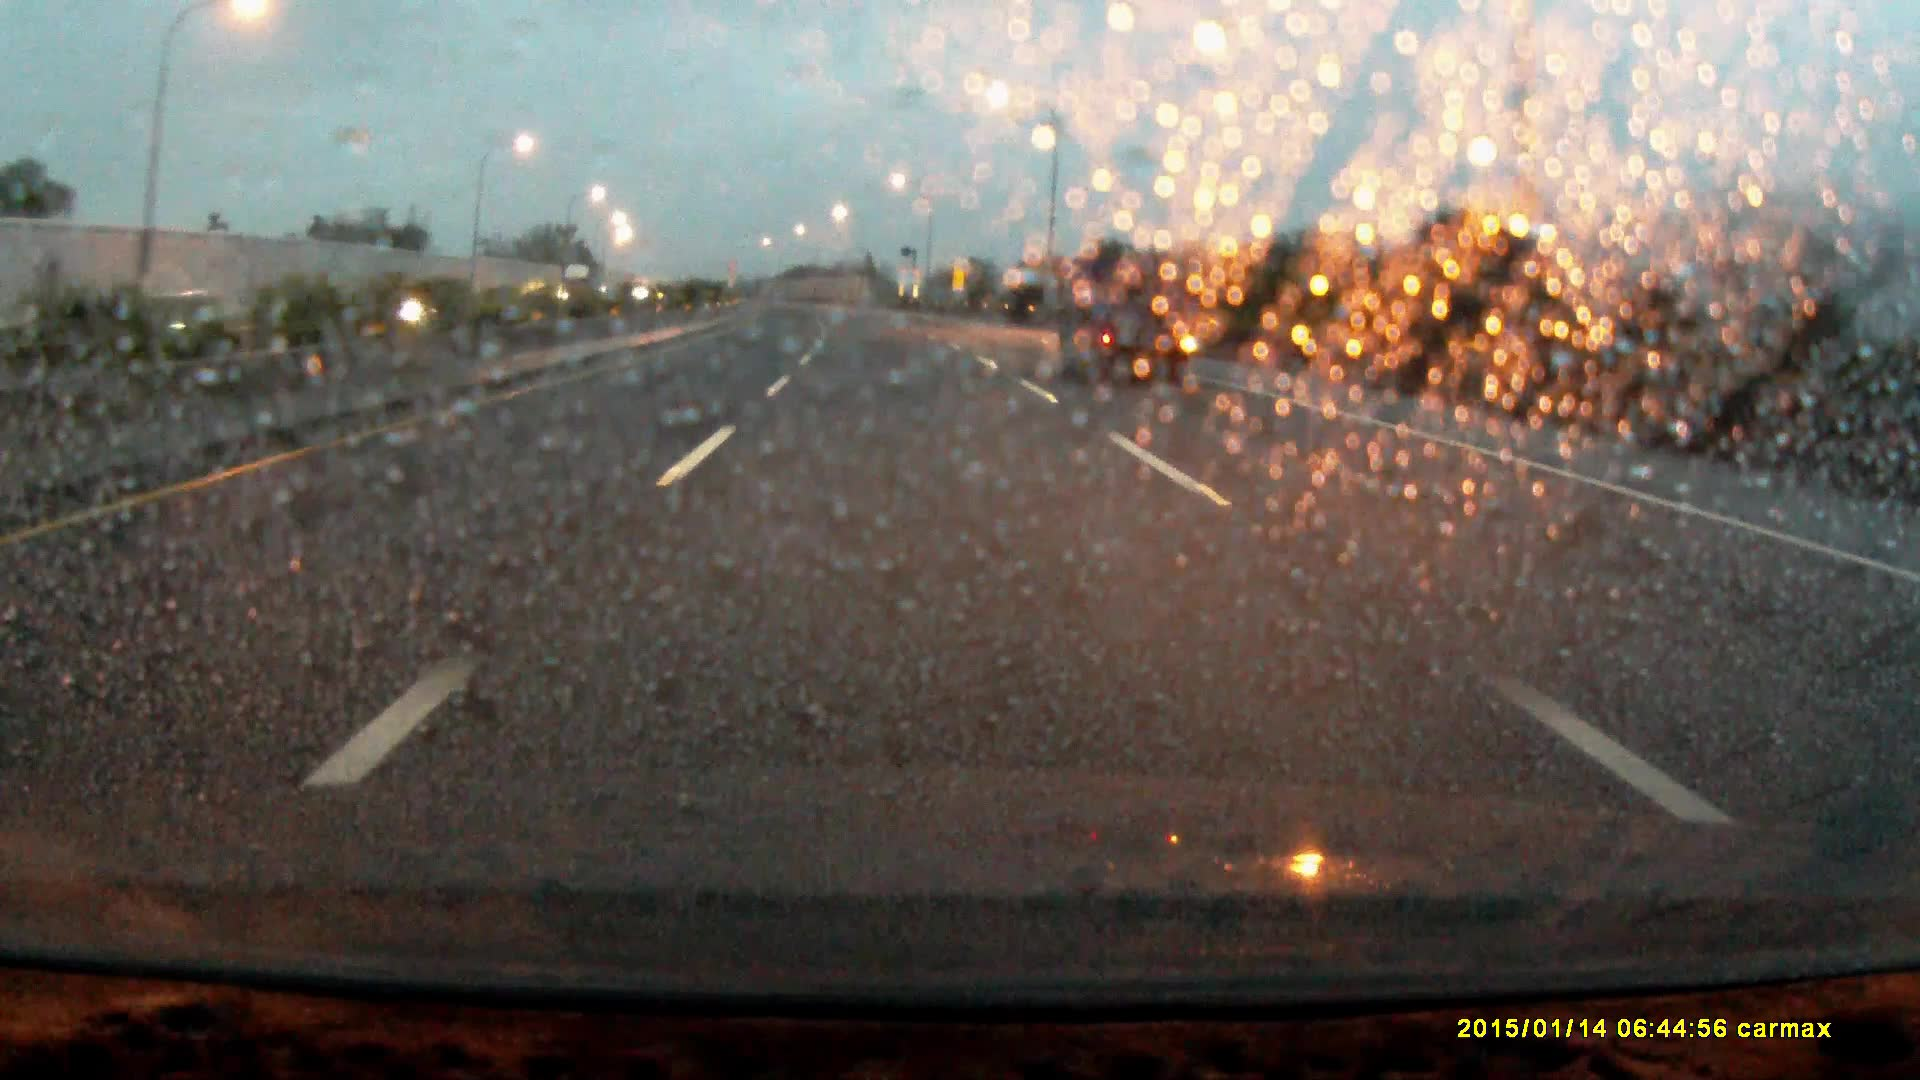vehicle: (1055, 255, 1195, 394), (563, 262, 599, 313)
